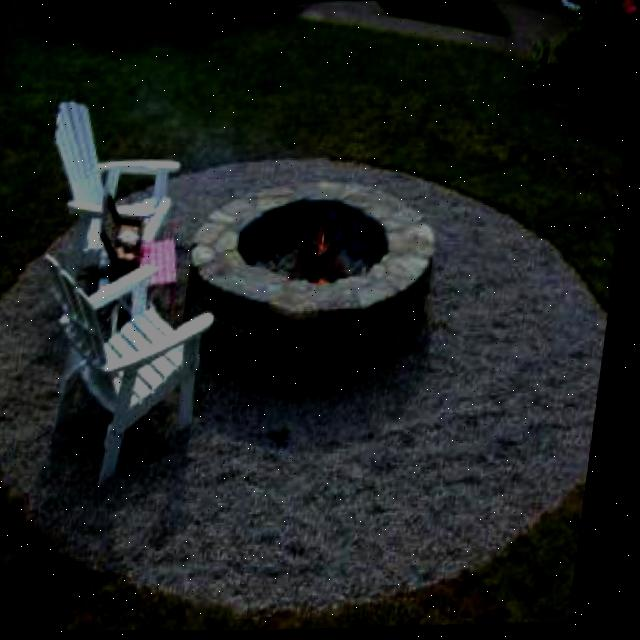Fire: (304, 215, 347, 281)
